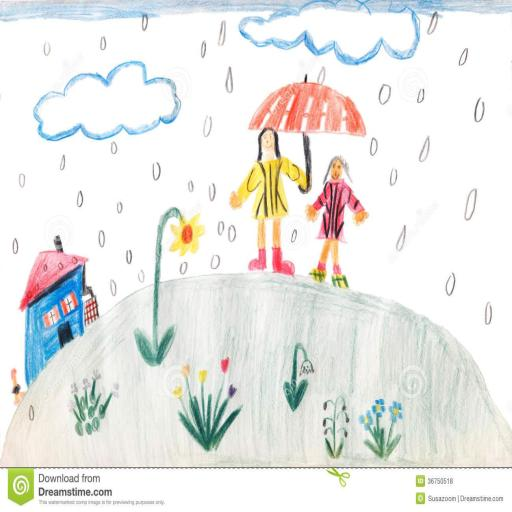person: (227, 123, 308, 273), (306, 154, 370, 272)
